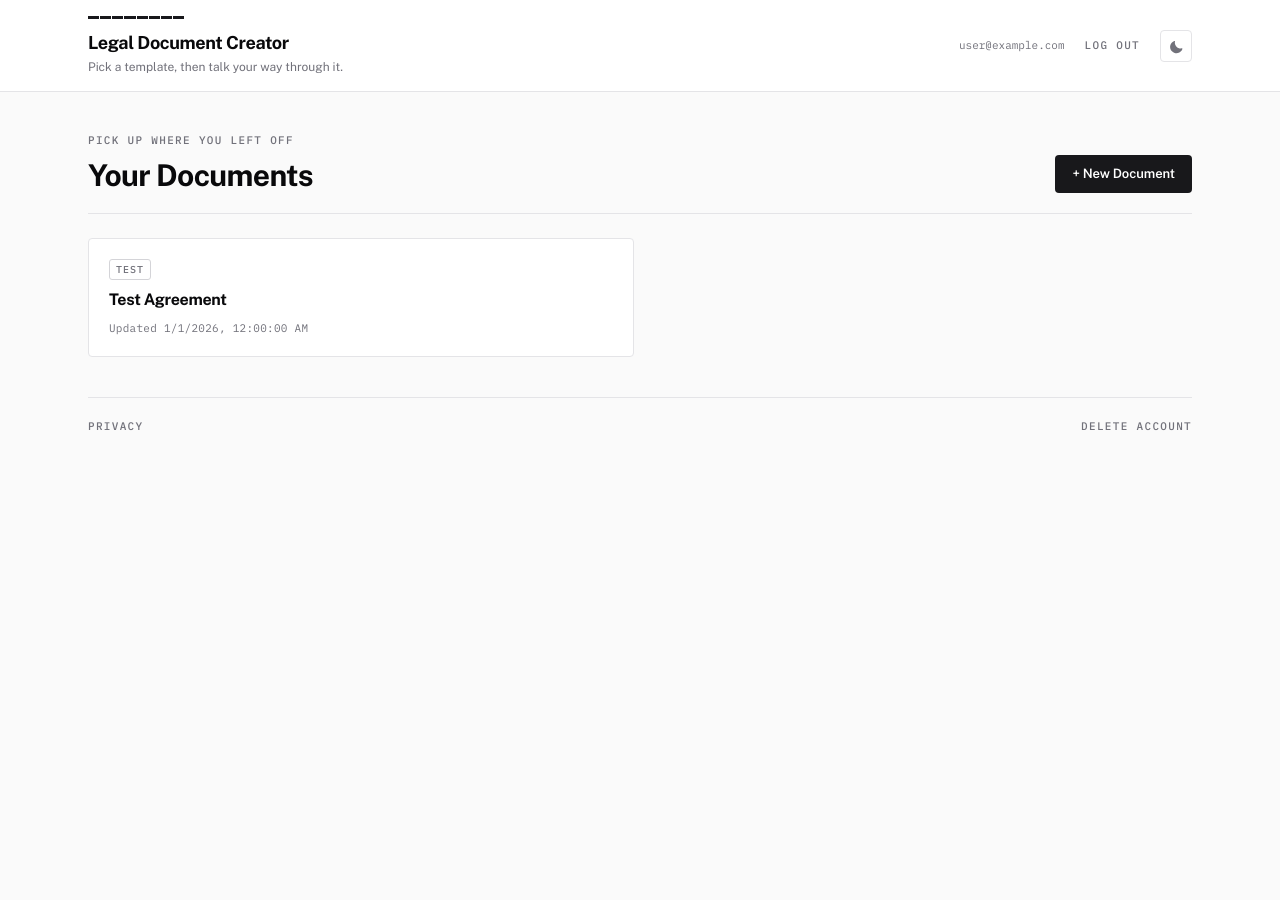
Test: Home (auth-gated multi-user flow) › resumes an existing saved document with its persisted messages and fields
Click the button "TEST Test Agreement Updated 1/1/2026, 12:00:00 AM". click: coordinates (130, 269)
box: [88,238,634,357]
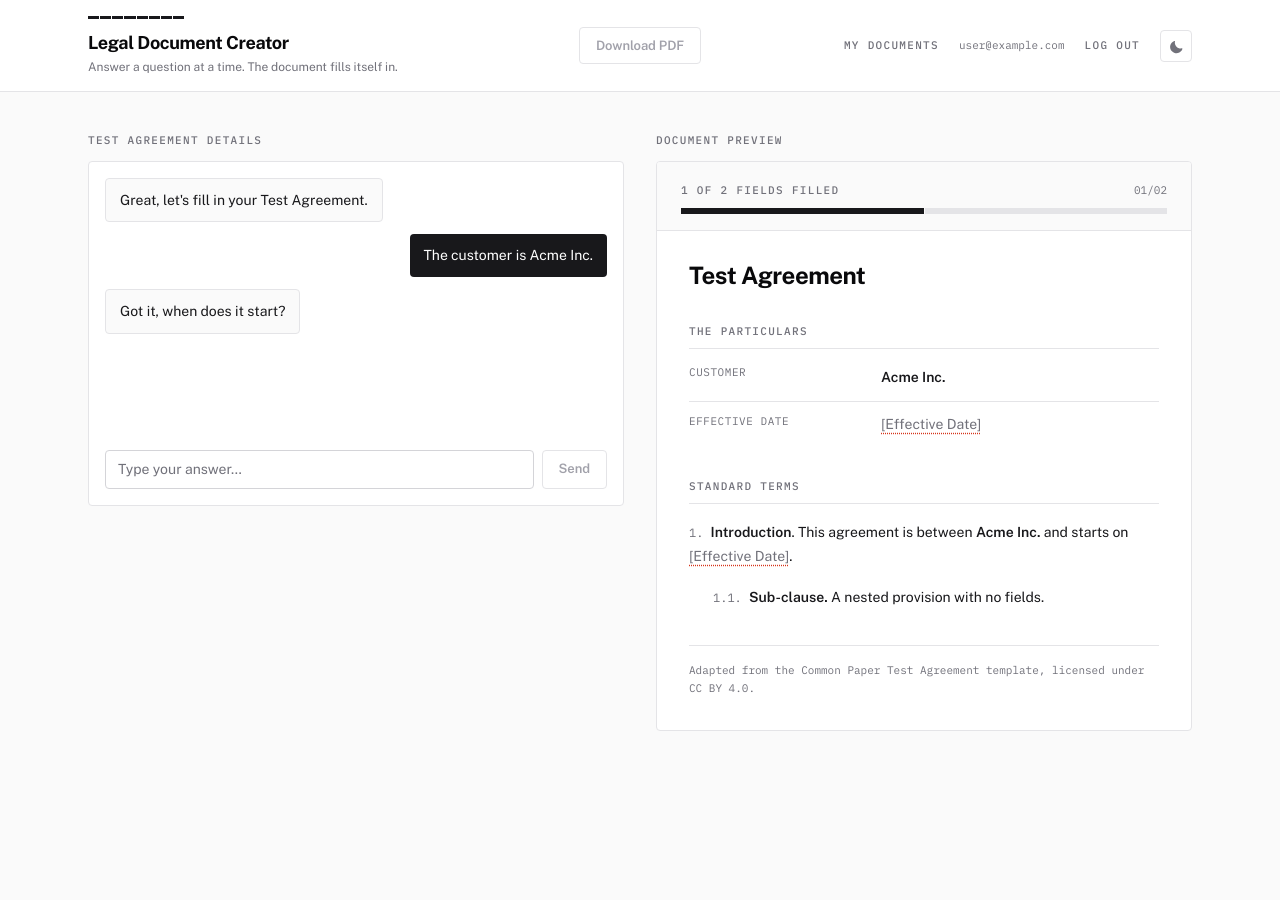
Expected: the text "Got it, when does it start?" is shown, [105,289,300,334]
Expected: the 1st text "Acme Inc." is shown, [881,364,946,389]
